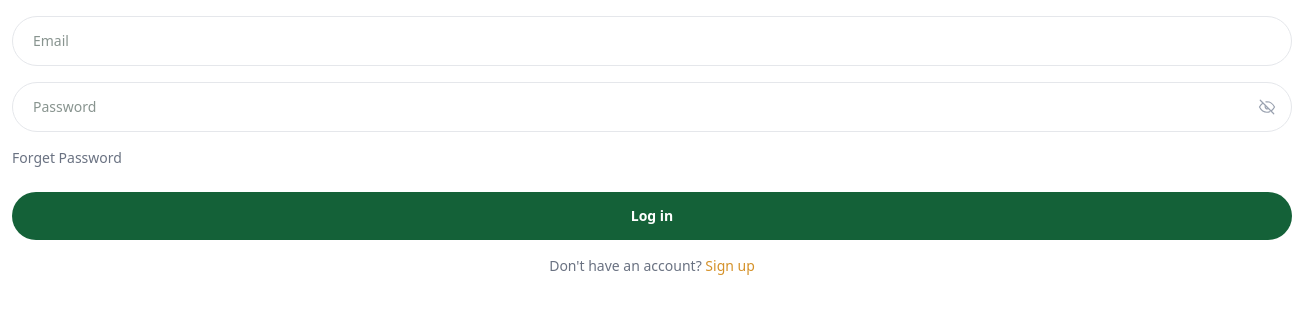
Test: LoginForm › shows the auth error and does not redirect when sign-in fails
Type "jane@example.com" into the field with placeholder "Email" at (652, 41), box 12,16 -> 1292,66
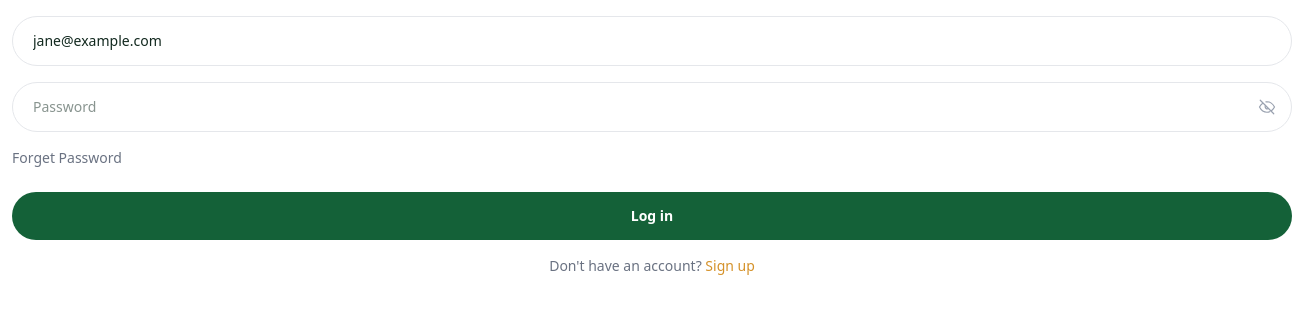
Type "wrongpass" into the password field with placeholder "Password" at (652, 107), box 12,82 -> 1292,132
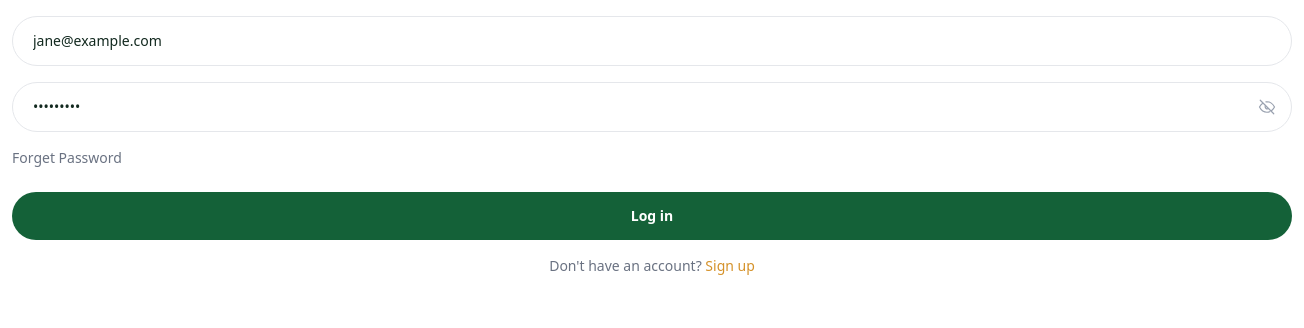
Click the button "Log in" at (652, 216), box 12,192 -> 1292,240
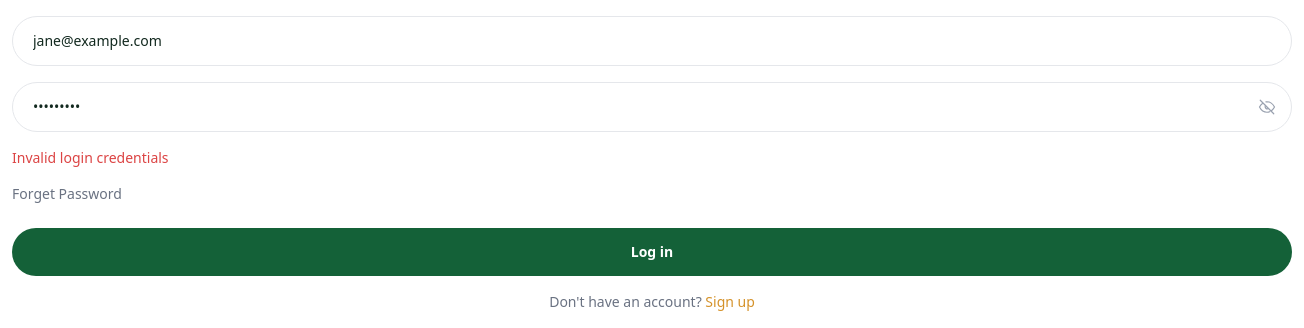
Expected: the text "Invalid login credentials" is shown, 12,148 -> 169,167
